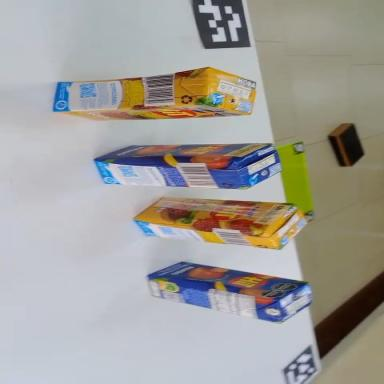HIT-MANGO: (144, 257, 314, 327), (94, 141, 281, 189)
HIT-MORA: (52, 65, 257, 122), (134, 195, 307, 250)
cara_F: (148, 256, 310, 305), (133, 196, 292, 233), (57, 103, 248, 123), (94, 143, 272, 161)
